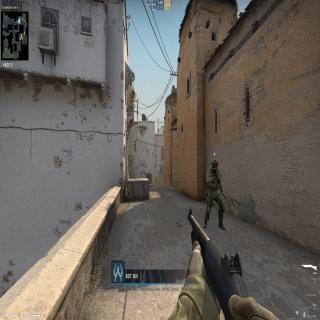CT-Head: (211, 158, 219, 172)
